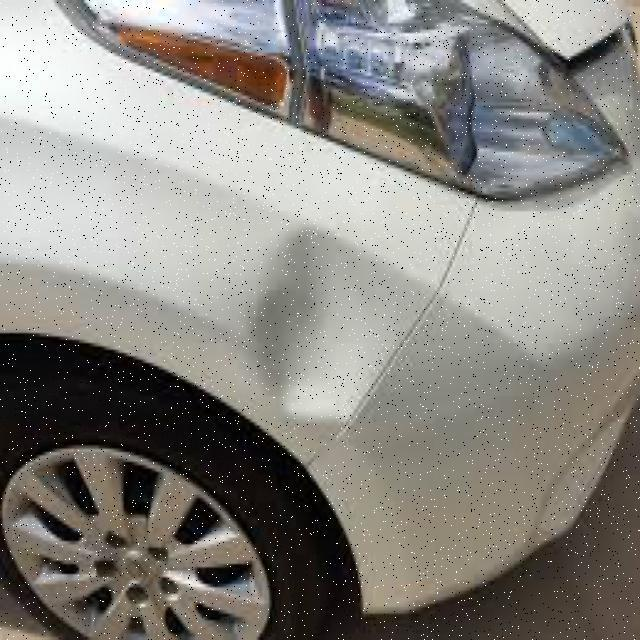bumper: (0, 159, 420, 489)
